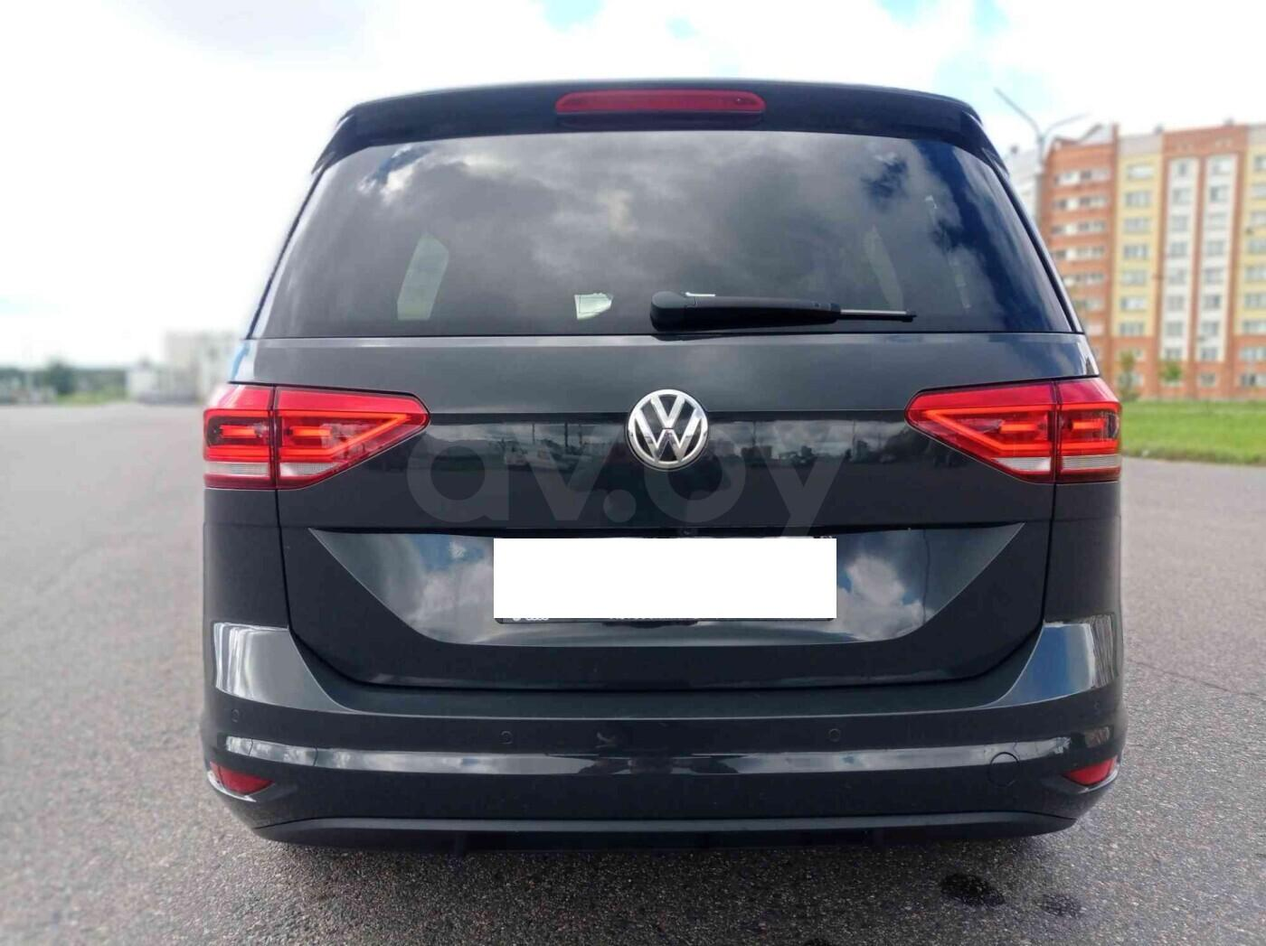Touran_2015: (191, 74, 1130, 844)
